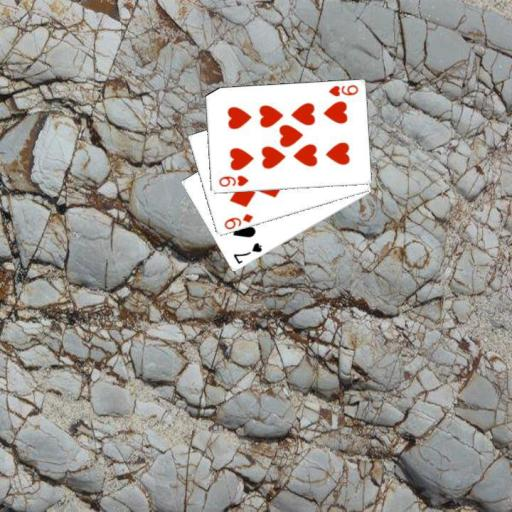7S: (231, 240, 263, 266)
9D: (221, 211, 255, 231)
9H: (325, 82, 359, 98), (216, 173, 250, 188)
